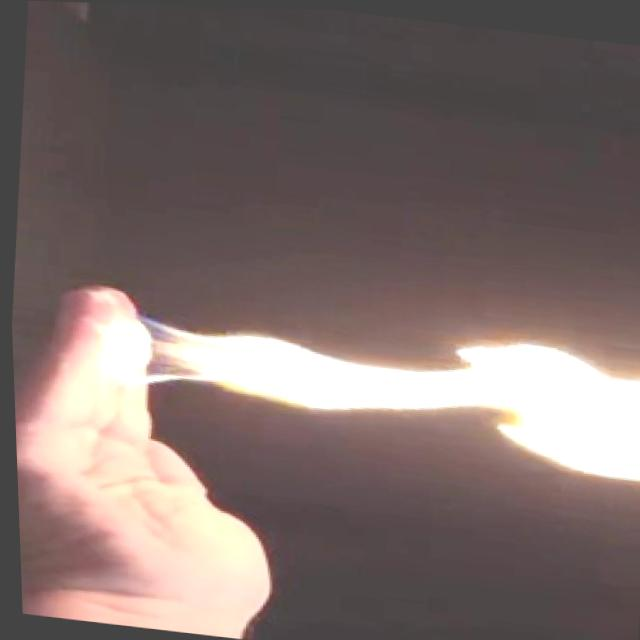helmet: (88, 285, 640, 479)
